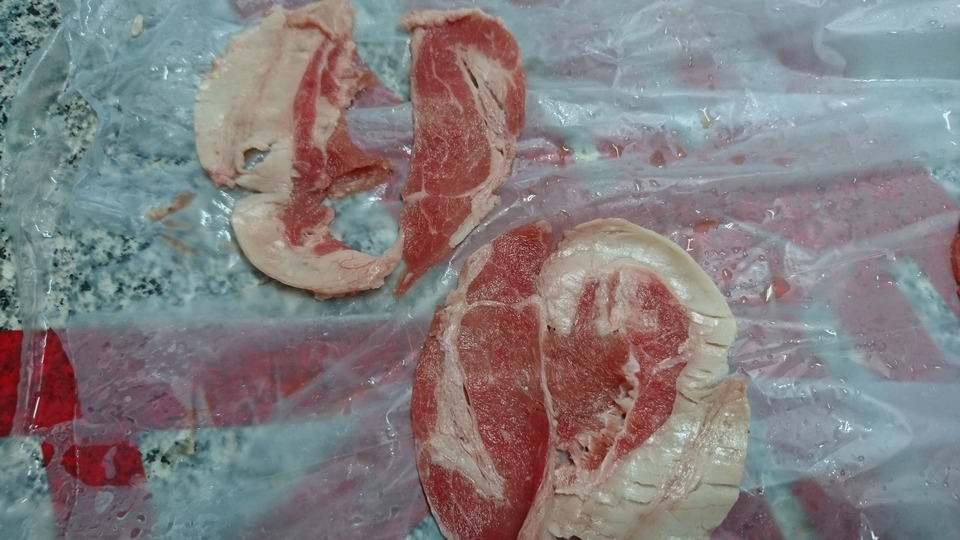restructured meat: (406, 211, 748, 540), (191, 2, 529, 291)
